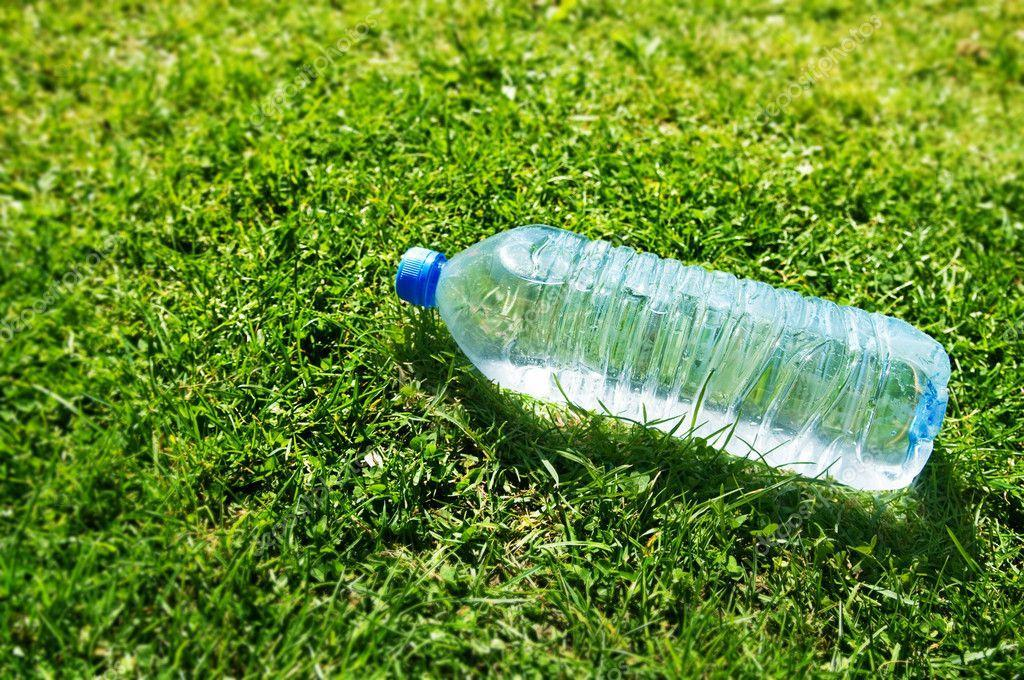bottle: (390, 194, 962, 509)
